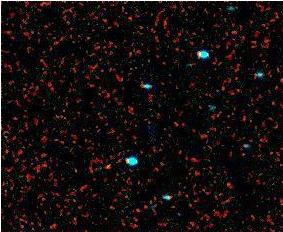star: (92, 148, 122, 178)
